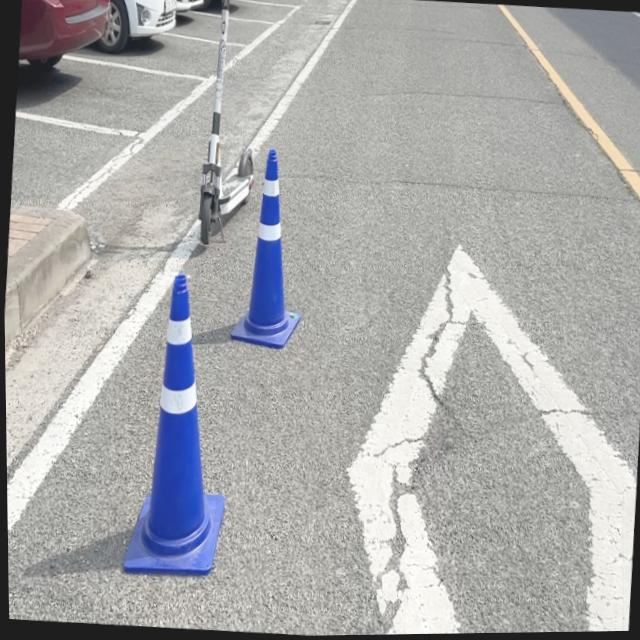b_rub: (121, 274, 223, 575), (229, 148, 299, 348)
